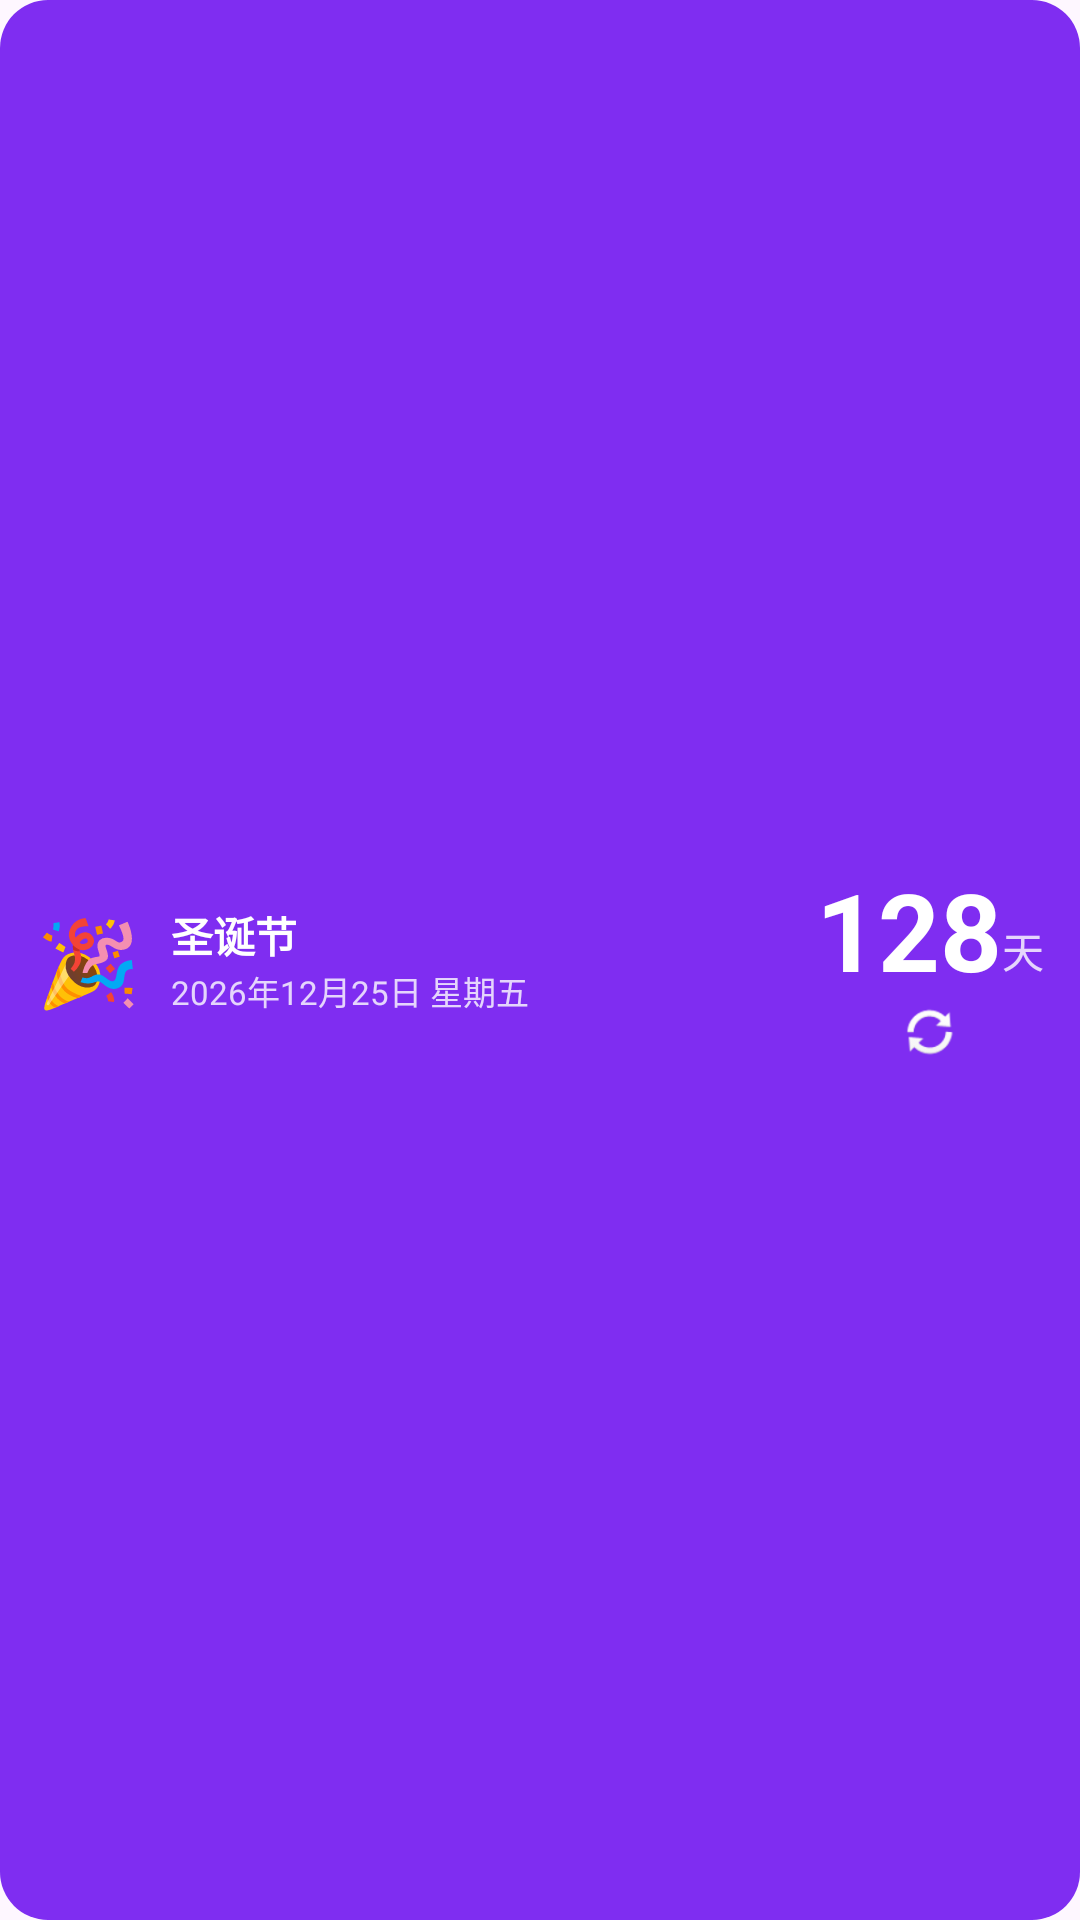

Icon bounding boxes for this 1080 x 1920 phone screenshot, format (x1, y1, x2, y2):
刷新: (907, 1009, 953, 1055)
